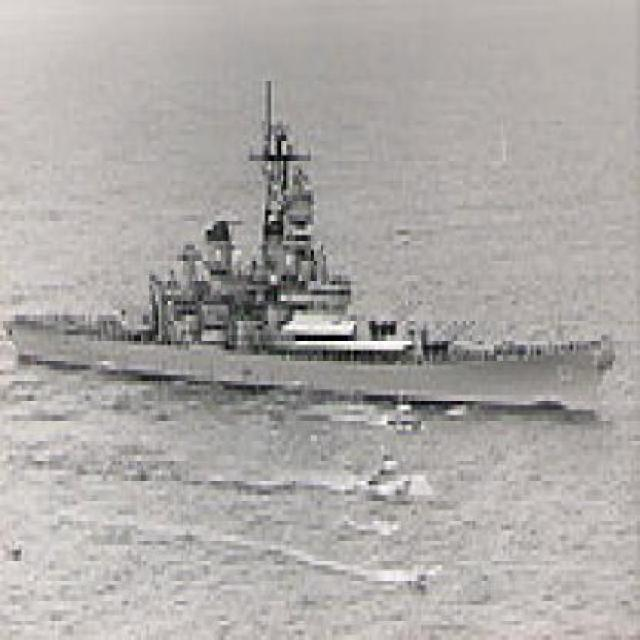warship2: (8, 86, 617, 421)
